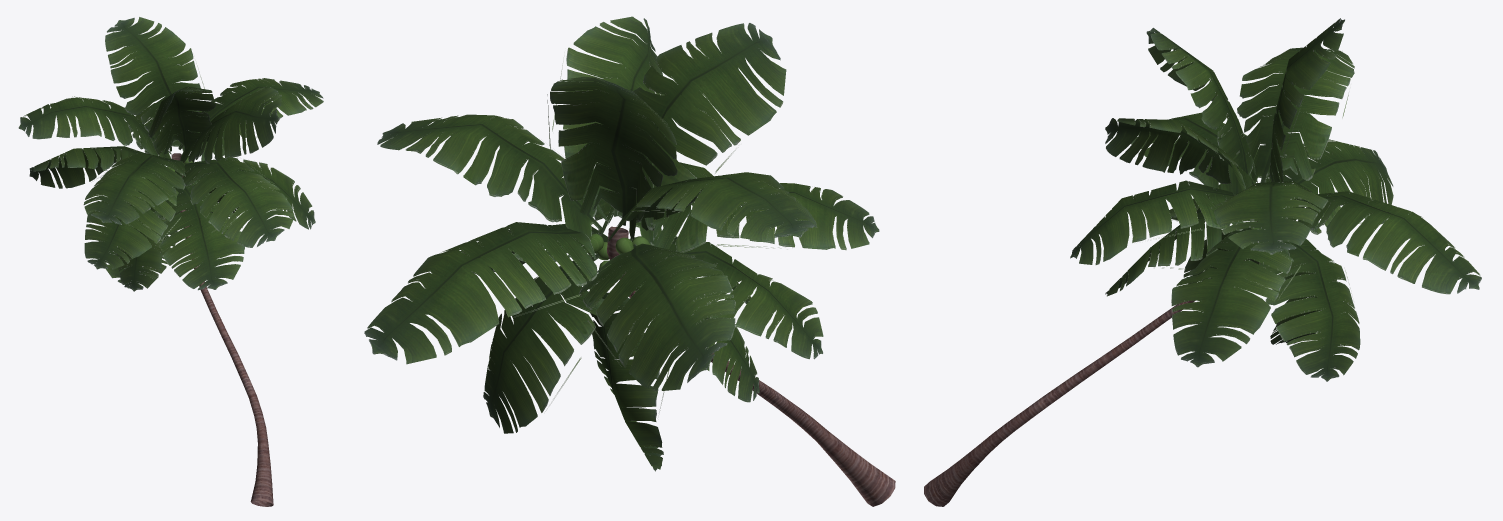
Rendered from Ht_shu_01.FBX.
The picture shows the model from 3 angles, left to right: view 1: azimuth 30°, elevation 25°; view 2: azimuth 150°, elevation 25°; view 3: azimuth 270°, elevation 25°; orthographic projection. The views are drawn at different scales.
Parts seen in each view (by area): view 1: Ht_shu_01; view 2: Ht_shu_01; view 3: Ht_shu_01.
Boxes of the visible parts, bbox=[...] form: Ht_shu_01: bbox=[18, 17, 323, 506]; Ht_shu_01: bbox=[364, 16, 895, 506]; Ht_shu_01: bbox=[924, 18, 1481, 506].
Size of the model in its own units: 1041 by 1300 by 1345.
